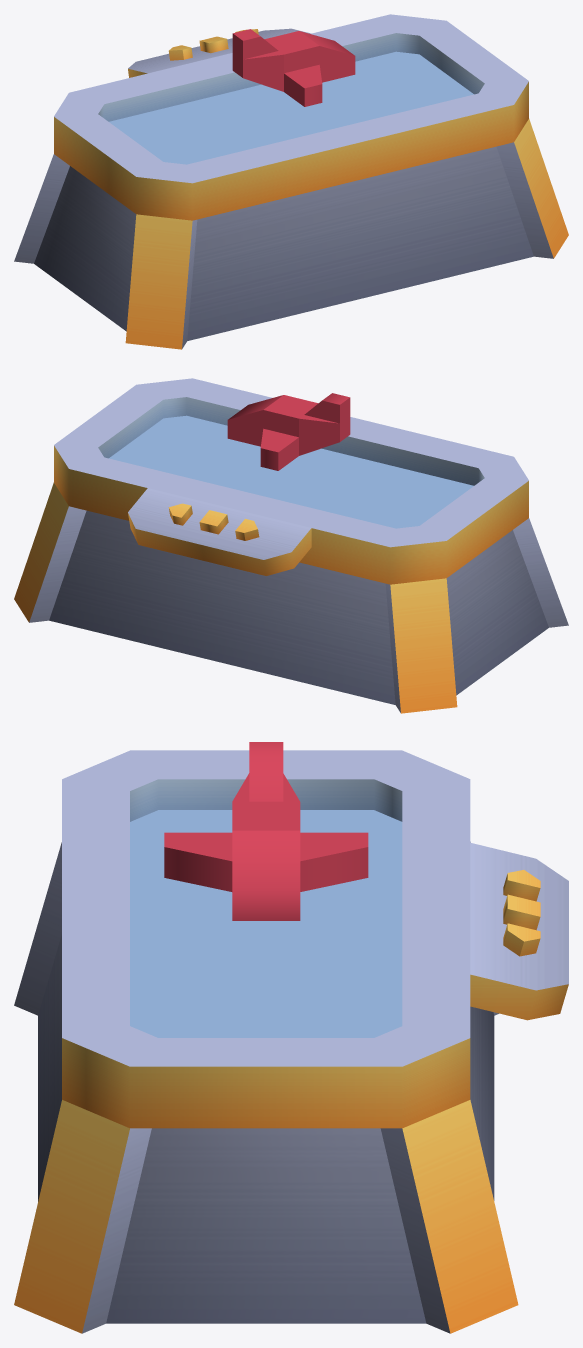
The model's file is scifi-table-display.fbx.
The picture shows the model from 3 angles, top to bottom: view 1: azimuth 30°, elevation 25°; view 2: azimuth 150°, elevation 25°; view 3: azimuth 270°, elevation 25°; orthographic projection. The views are drawn at different scales.
Parts seen in each view (by area): view 1: scifi-table-display, scifi-ship; view 2: scifi-table-display, scifi-ship; view 3: scifi-table-display, scifi-ship.
Boxes of the visible parts, x1,y1,x2,y2 form: scifi-table-display: (14,14,568,349); scifi-ship: (232,29,355,106); scifi-table-display: (14,378,568,713); scifi-ship: (227,393,350,470); scifi-table-display: (14,750,568,1333); scifi-ship: (164,742,368,920).
Size of the model in its own units: 1.24 by 0.8156 by 0.6.
